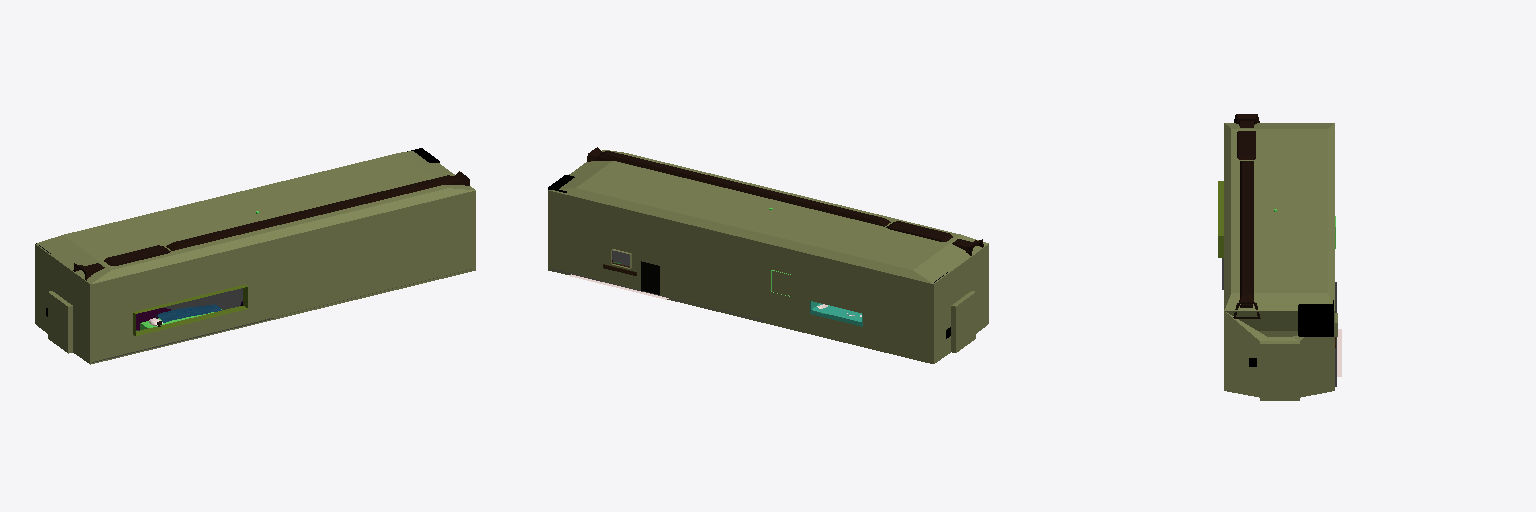
File: CompleteHallwayt.obj
3 renders of one model, left to right at view 1: azimuth 30°, elevation 25°; view 2: azimuth 150°, elevation 25°; view 3: azimuth 270°, elevation 25°, orthographic.
Visible parts, largest first — view 1: g pCube2_pCube2, g pCube43_pCube43, g pCube54_pCube54, g pPlane4_pPlane4, g pPlane5_pPlane5; view 2: g pCube2_pCube2, g pCube43_pCube43, g pCube3_pCube3, g pCube45_pCube45; view 3: g pCube2_pCube2, g pCube43_pCube43, g pCube5_pCube5.
Part boxes in pixels (x1,y1,x2,y2): g pCube2_pCube2: (35,151,475,364); g pCube43_pCube43: (73,171,469,280); g pCube54_pCube54: (133,284,247,335); g pPlane4_pPlane4: (92,293,273,362); g pPlane5_pPlane5: (155,304,221,322); g pCube2_pCube2: (548,150,988,363); g pCube43_pCube43: (587,147,983,255); g pCube3_pCube3: (810,301,862,326); g pCube45_pCube45: (641,261,659,294); g pCube2_pCube2: (1224,123,1337,400); g pCube43_pCube43: (1233,114,1260,318); g pCube5_pCube5: (1298,300,1333,336).
Size of the model in its own units: 61.67 by 14.25 by 16.63.